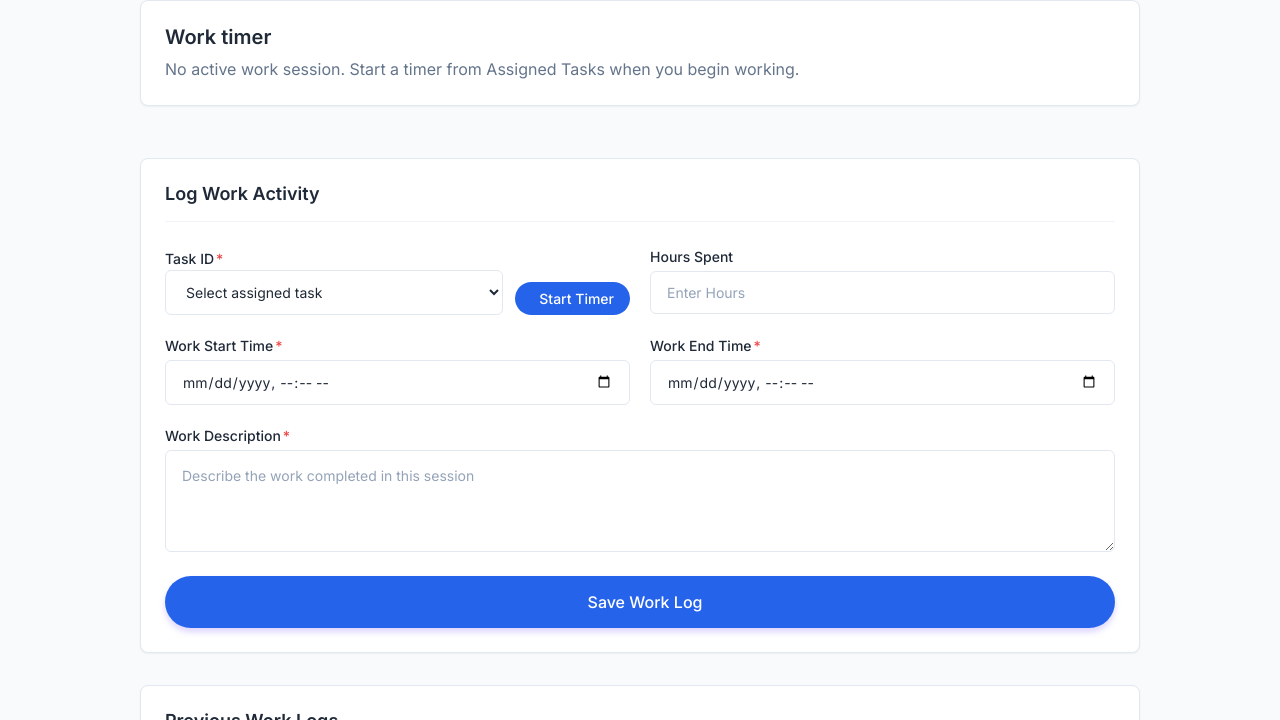
it: Employee work logs and timer recovery › starts and stops the selected task timer from Work Logs, then collects its description
Select "#TK001 - Layout" in the dropdown labelled "Task ID*" at (334, 292), box [165, 270, 503, 315]
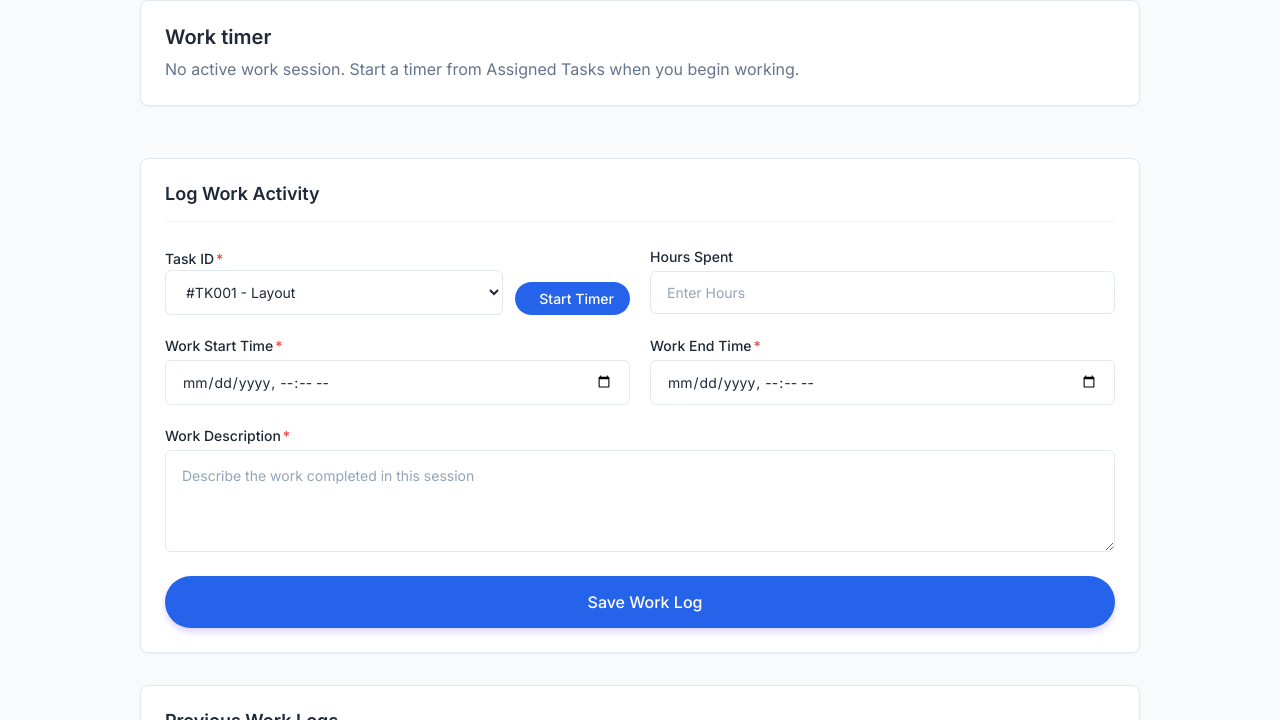
Click the button with aria-label "Start timer for selected task" at (573, 298), box [515, 282, 630, 315]
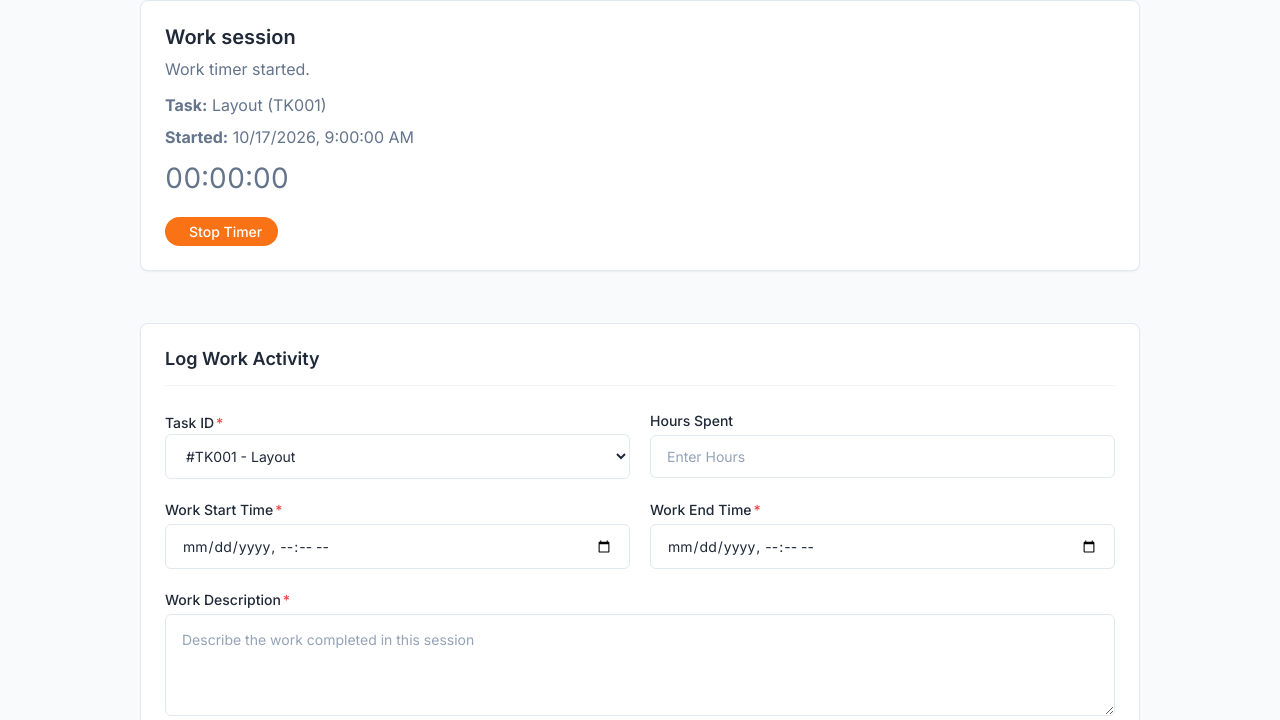
Now the text "00:00:00" is shown, box [165, 161, 289, 195]
Click the button "Stop Timer" at (222, 231), box [165, 216, 278, 246]
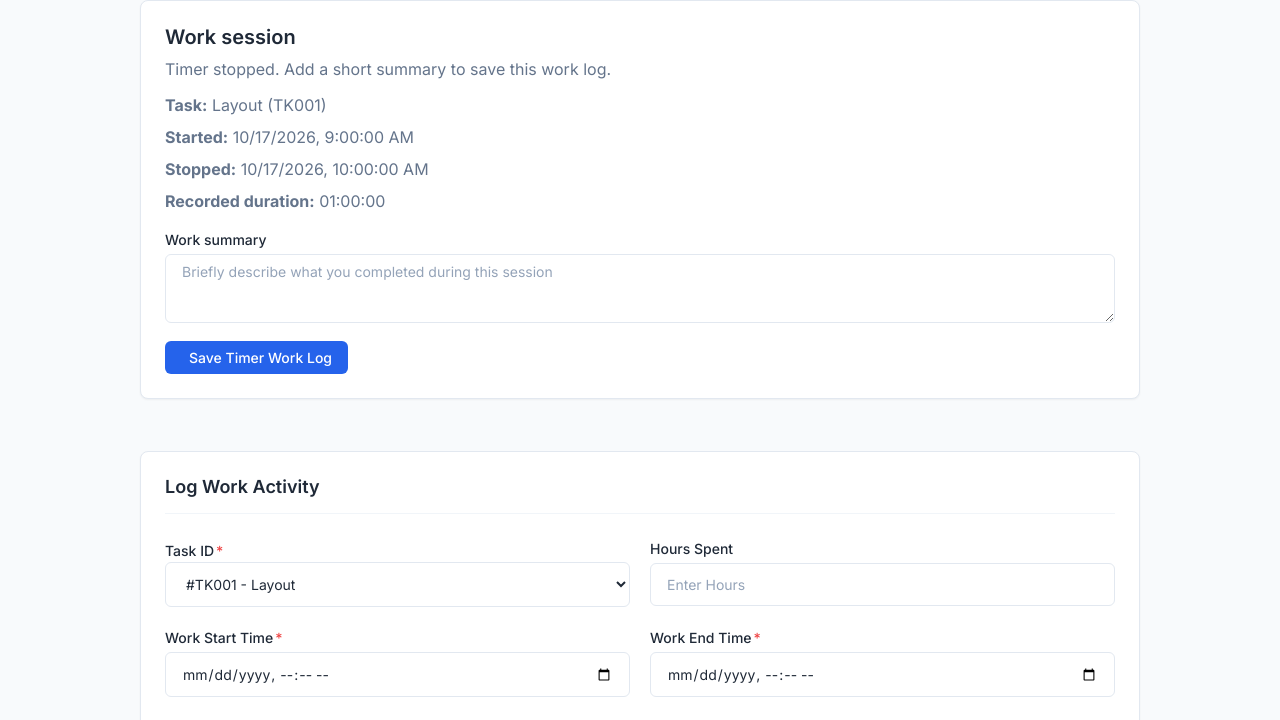
Now the text box labelled "Work summary" is shown, box [165, 254, 1115, 323]
